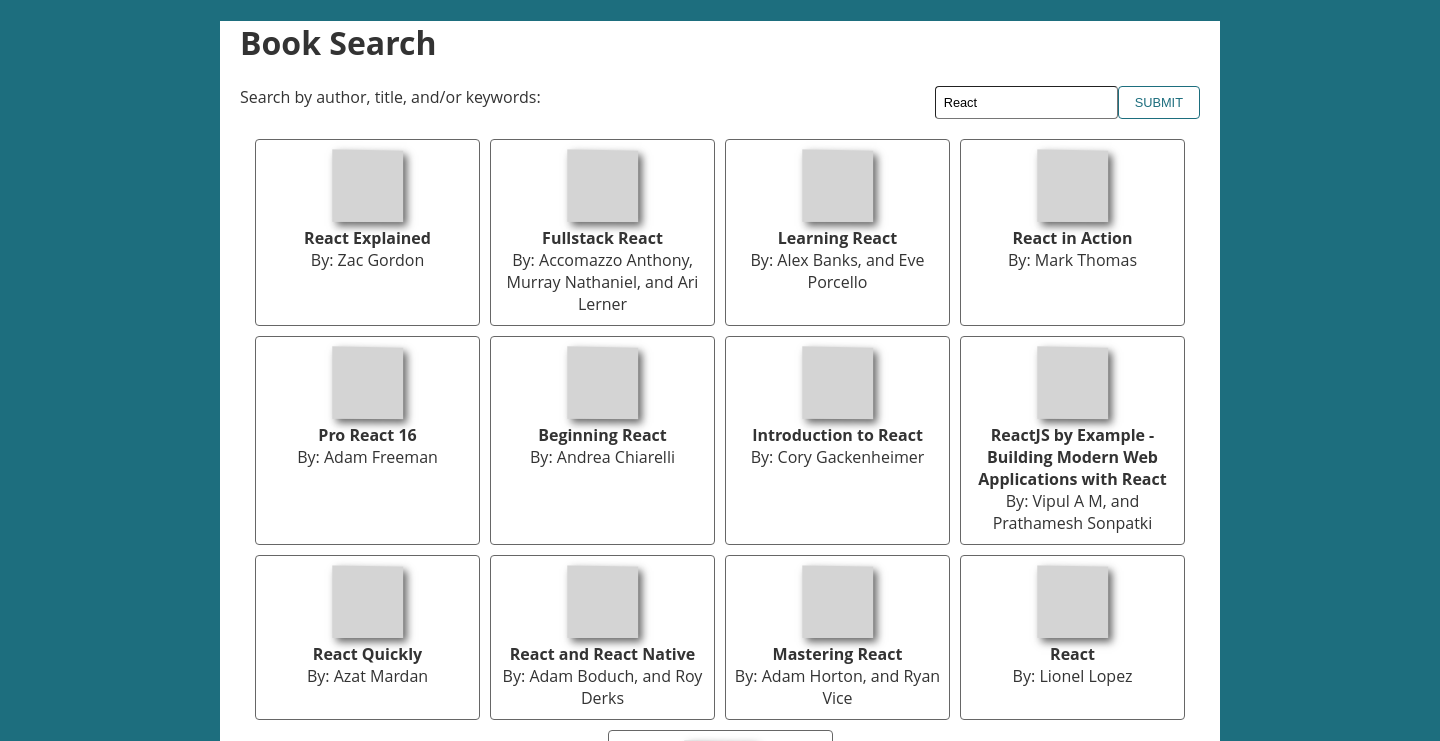
Test: Search Page Component › Subsequent User Searches › should show title of each result when searching
Replace the text in the field labelled "Search by author, title, and/or keywords:" with "conan" at [1026, 102], box [935, 86, 1118, 119]
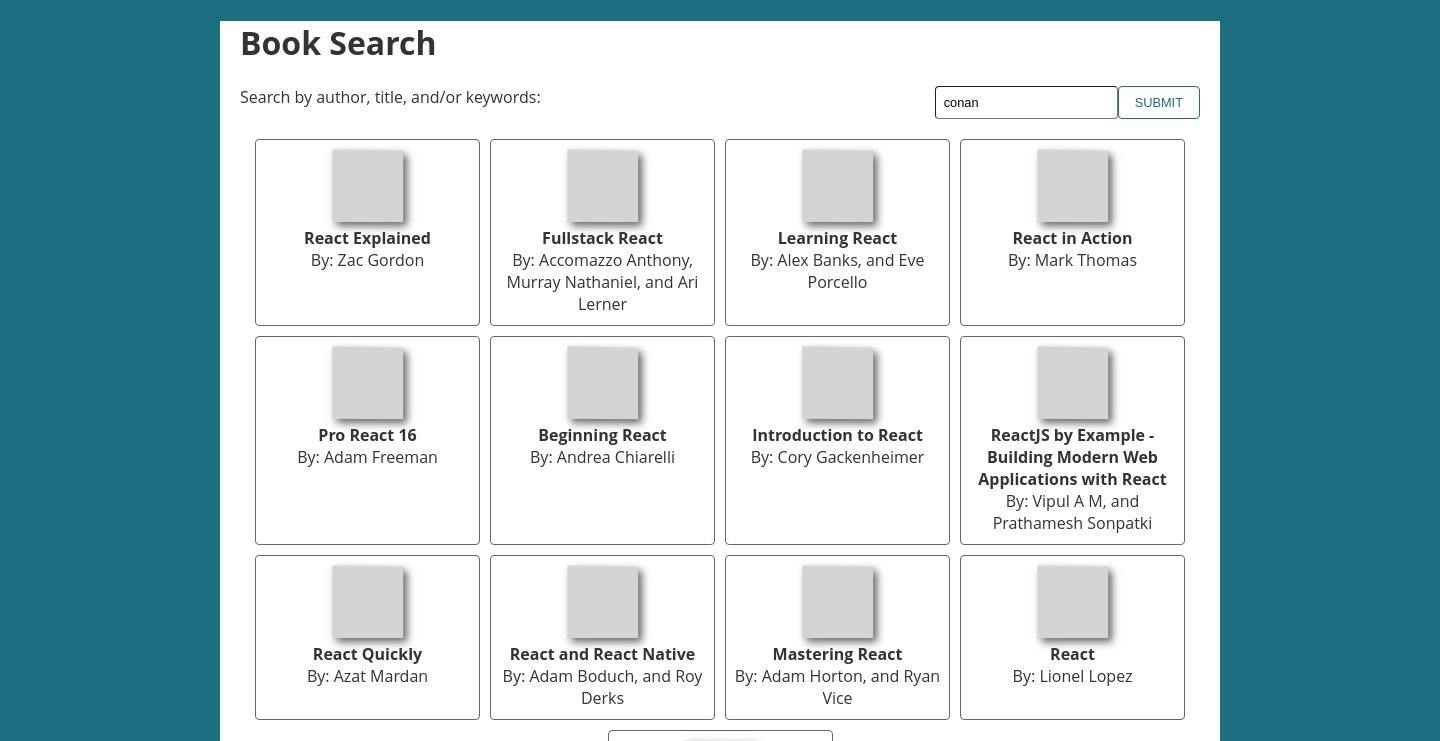
Click the button "Submit" at [1159, 102], box [1118, 86, 1200, 119]
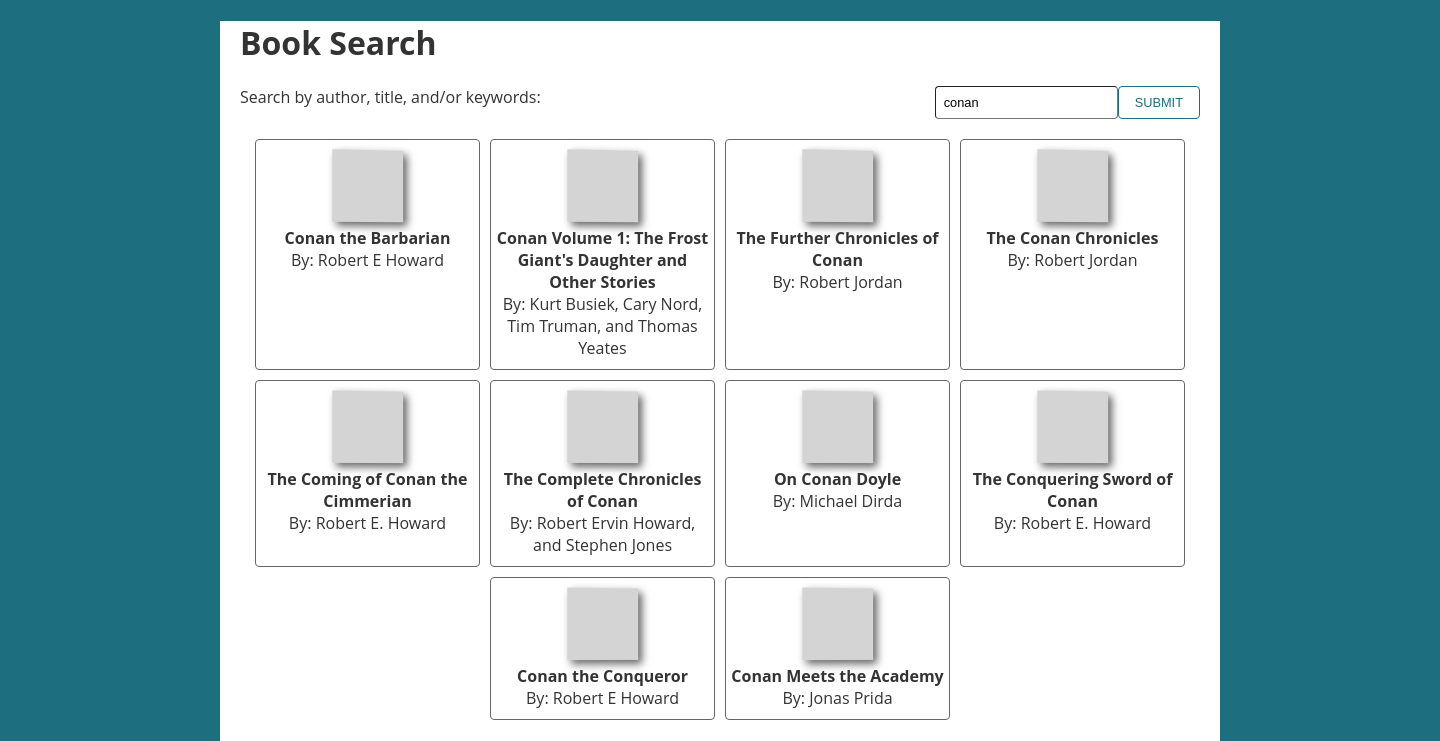
Result: the text "Conan the Barbarian" is shown at [285, 227, 450, 249]
Result: the text "Conan Volume 1: The Frost Giant's Daughter and Other Stories" is shown at [497, 227, 708, 293]
Result: the text "The Further Chronicles of Conan" is shown at [736, 227, 938, 271]
